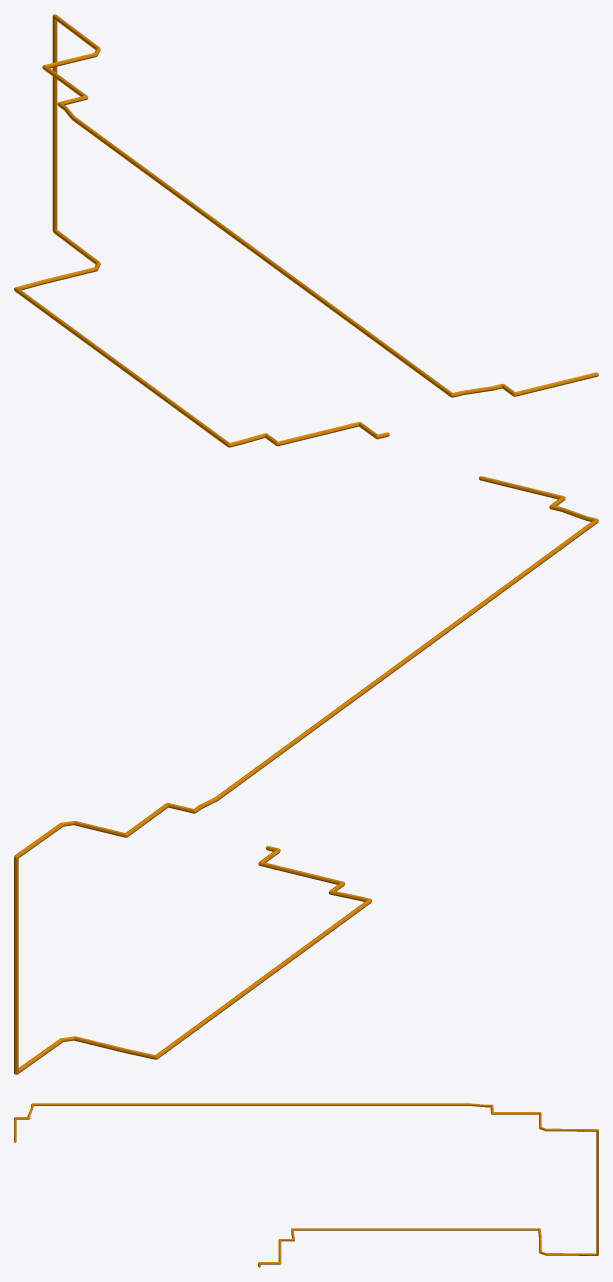
3 views of the same model, one above another, from view 1: azimuth 30°, elevation 25°; view 2: azimuth 150°, elevation 25°; view 3: azimuth 270°, elevation 25° (orthographic). The views are drawn at different scales.
Bounding box in the file's own units: 660 × 1020 × 4265.
